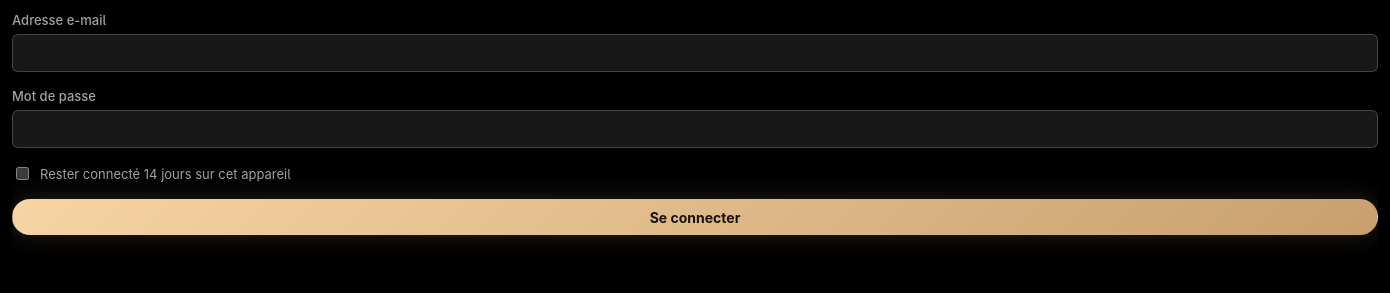
it: LoginForm › reports a throttled sign-in without blaming the credentials
Type "owner@example.test" into the field labelled "Adresse e-mail". click: (695, 53)
box: [12,34,1378,72]
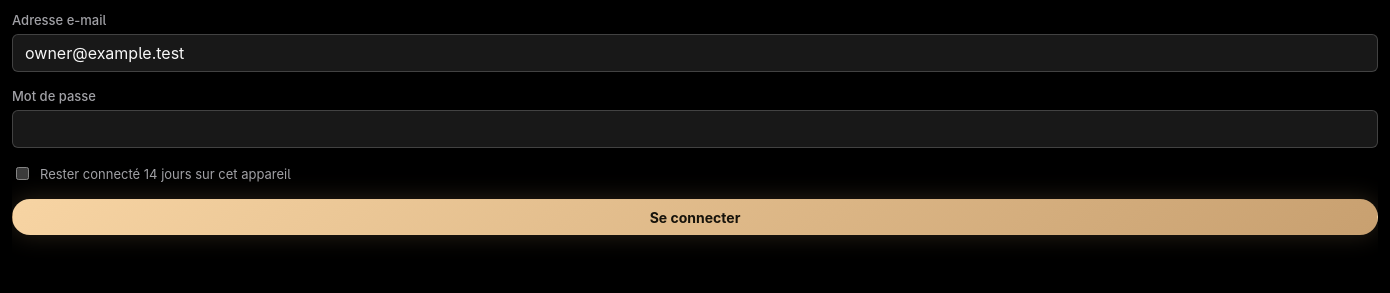
Type "correct horse battery" into the password field labelled "Mot de passe". click: (695, 129)
box: [12,110,1378,148]
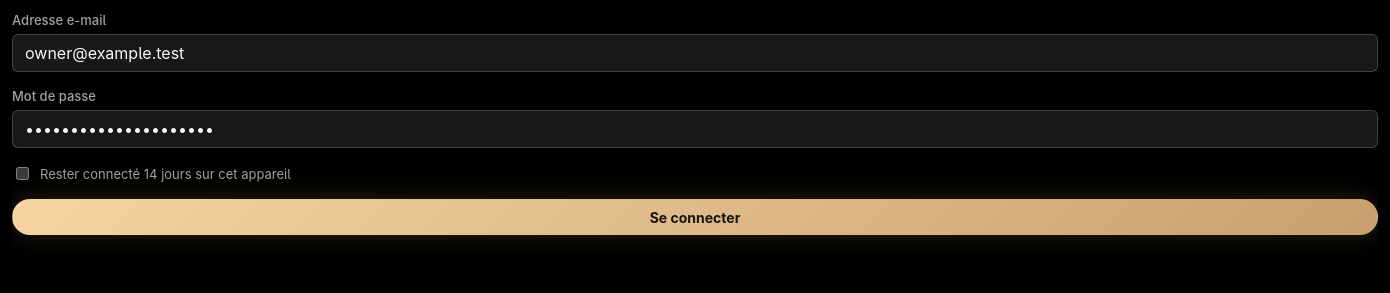
Submit the form from the button "Se connecter", box [12,199,1378,235]
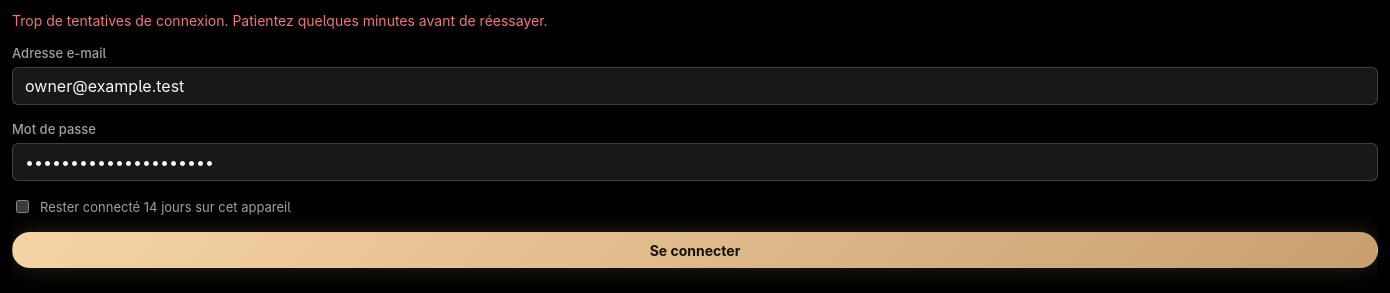
Check: the message shows "Trop de tentatives", box [12,12,548,29]
